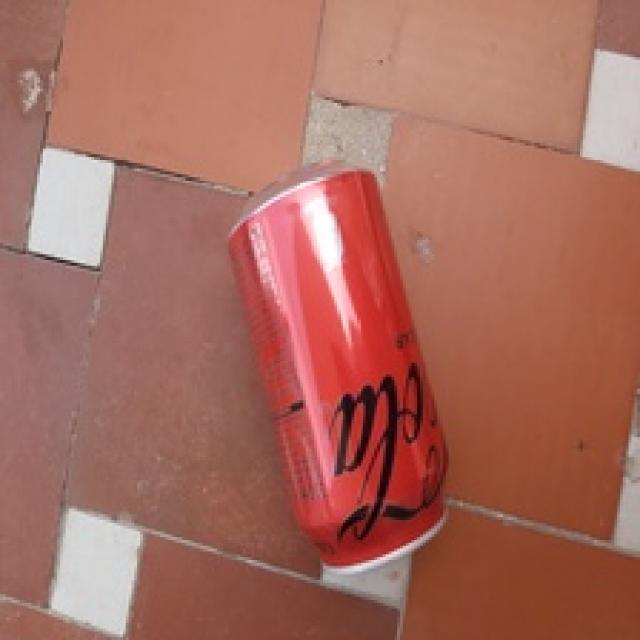recyclable: (229, 158, 451, 584)
